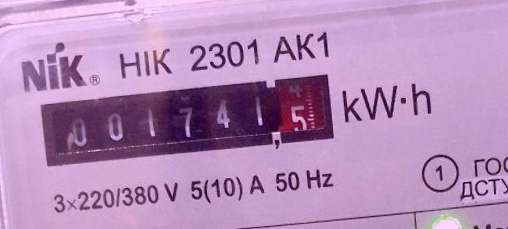0: (68, 114, 90, 148), (104, 108, 125, 143)
1: (139, 103, 159, 140), (249, 93, 267, 129)
4: (211, 94, 234, 131), (286, 80, 303, 100)
5: (287, 100, 308, 133)
7: (175, 103, 195, 139)
screen: (33, 66, 342, 173)
